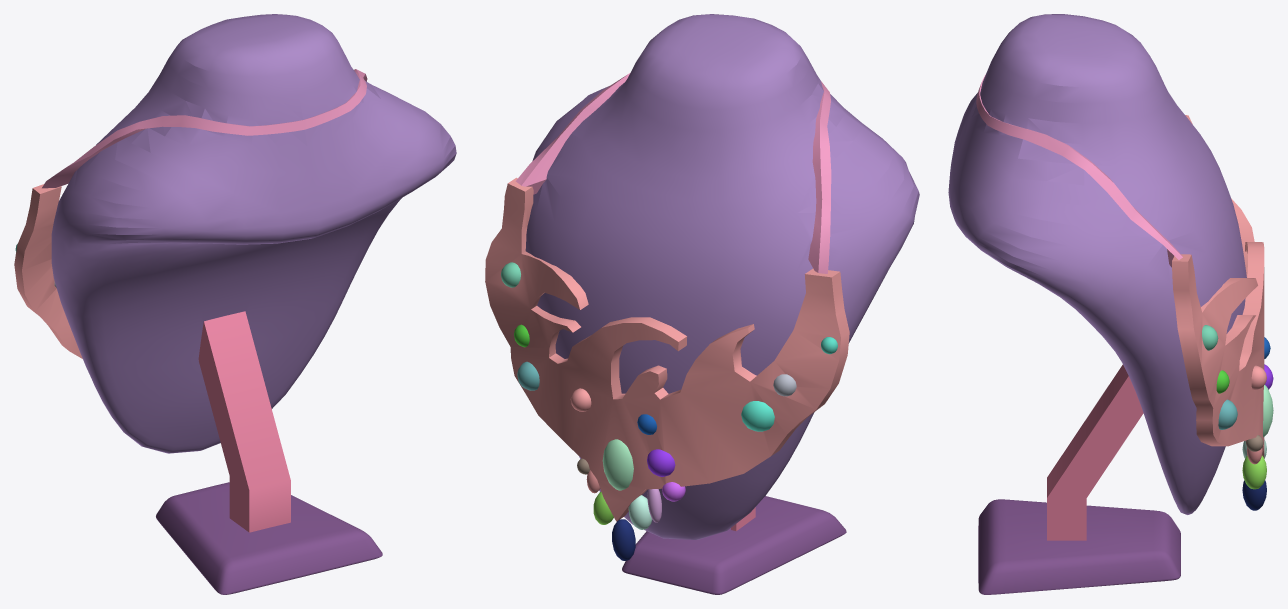
3 views of the same model, side by side, from view 1: azimuth 30°, elevation 25°; view 2: azimuth 150°, elevation 25°; view 3: azimuth 270°, elevation 25° (orthographic). The views are drawn at different scales.
Visible parts, largest first — view 1: split_parent_1, Sarawak Beads (EMP (SWK) 13G)_Mannequin.002_0.001, Sarawak Beads (EMP (SWK) 13G)_Mannequin.002_0.002, split_parent_0, split_parent_17; view 2: split_parent_1, split_parent_0, Sarawak Beads (EMP (SWK) 13G)_Mannequin.002_0.001, split_parent_17, Sarawak Beads (EMP (SWK) 13G)_M_0.057_0.009, Sarawak Beads (EMP (SWK) 13G)_M_0.057_0.010, Sarawak Beads (EMP (SWK) 13G)_M_0.057_0.013, Sarawak Beads (EMP (SWK) 13G)_M_0.057_0.008, Sarawak Beads (EMP (SWK) 13G)_M_0.057_0.012; view 3: split_parent_1, Sarawak Beads (EMP (SWK) 13G)_Mannequin.002_0.001, split_parent_0, Sarawak Beads (EMP (SWK) 13G)_Mannequin.002_0.002, split_parent_17, Sarawak Beads (EMP (SWK) 13G)_M_0.057_0.014, Sarawak Beads (EMP (SWK) 13G)_M_0.057_0.013, Sarawak Beads (EMP (SWK) 13G)_M_0.057_0.001.
Part boxes in pixels (x1,y1,x2,y2): split_parent_1: (51,14,456,453); Sarawak Beads (EMP (SWK) 13G)_Mannequin.002_0.001: (156,482,382,594); Sarawak Beads (EMP (SWK) 13G)_Mannequin.002_0.002: (198,311,290,532); split_parent_0: (14,184,82,358); split_parent_17: (42,69,367,188); split_parent_1: (525,14,919,539); split_parent_0: (485,177,849,521); Sarawak Beads (EMP (SWK) 13G)_Mannequin.002_0.001: (622,496,846,594); split_parent_17: (515,73,831,273); Sarawak Beads (EMP (SWK) 13G)_M_0.057_0.009: (602,439,633,490); Sarawak Beads (EMP (SWK) 13G)_M_0.057_0.010: (741,401,774,431); Sarawak Beads (EMP (SWK) 13G)_M_0.057_0.013: (612,519,635,560); Sarawak Beads (EMP (SWK) 13G)_M_0.057_0.008: (647,449,675,476); Sarawak Beads (EMP (SWK) 13G)_M_0.057_0.012: (628,495,652,529); split_parent_1: (948,14,1246,514); Sarawak Beads (EMP (SWK) 13G)_Mannequin.002_0.001: (978,499,1180,594); split_parent_0: (1172,115,1266,464); Sarawak Beads (EMP (SWK) 13G)_Mannequin.002_0.002: (1047,364,1143,540); split_parent_17: (976,74,1182,267); Sarawak Beads (EMP (SWK) 13G)_M_0.057_0.014: (1242,455,1266,489); Sarawak Beads (EMP (SWK) 13G)_M_0.057_0.013: (1242,480,1266,510); Sarawak Beads (EMP (SWK) 13G)_M_0.057_0.001: (1218,399,1237,429).
Bounding box in the file's own units: 0.7367 × 1 × 0.5649.
